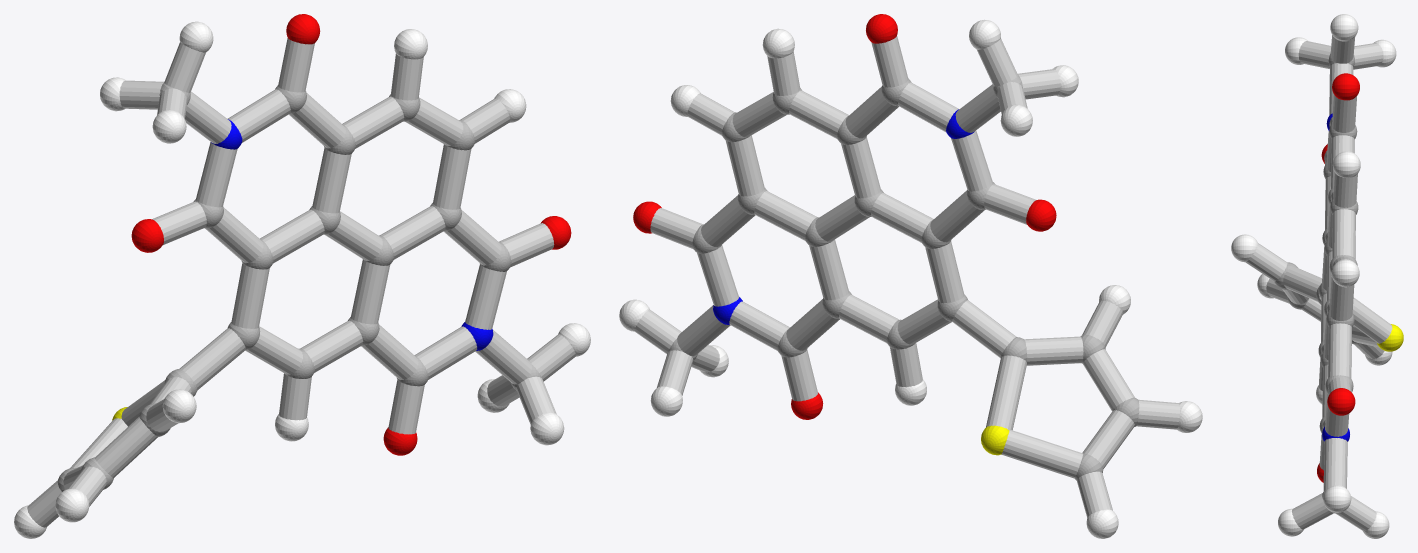
Rendered from Dimethyl_Naphthalene_Dicarboximide_Phi_5_Theta_300_Thiophene.glb.
3 views of the same model, side by side, from view 1: azimuth 30°, elevation 25°; view 2: azimuth 150°, elevation 25°; view 3: azimuth 270°, elevation 25° (orthographic). The views are drawn at different scales.
Parts seen in each view (by area): view 1: grp14119, grp7241, grp1, grp12309, grp11585; view 2: grp14119, grp7241, grp1, grp12309, grp11585; view 3: grp14119, grp7241, grp1, grp12309, grp13757.
Boxes of the visible parts, box(x1,y1,x2,y2) form: grp14119: box(27, 38, 575, 527); grp7241: box(14, 21, 590, 538); grp1: box(57, 83, 541, 491); grp12309: box(131, 14, 571, 455); grp11585: box(211, 119, 493, 350); grp14119: box(634, 36, 1180, 517); grp7241: box(619, 19, 1202, 538); grp1: box(668, 75, 1139, 480); grp12309: box(633, 14, 1056, 419); grp11585: box(713, 109, 974, 324); grp14119: box(1245, 35, 1392, 531); grp7241: box(1231, 14, 1396, 538); grp1: box(1274, 53, 1360, 513); grp12309: box(1317, 73, 1359, 482); grp13757: box(1377, 324, 1403, 351).
Size of the model in its own units: 11.63 by 9.62 by 3.69.
